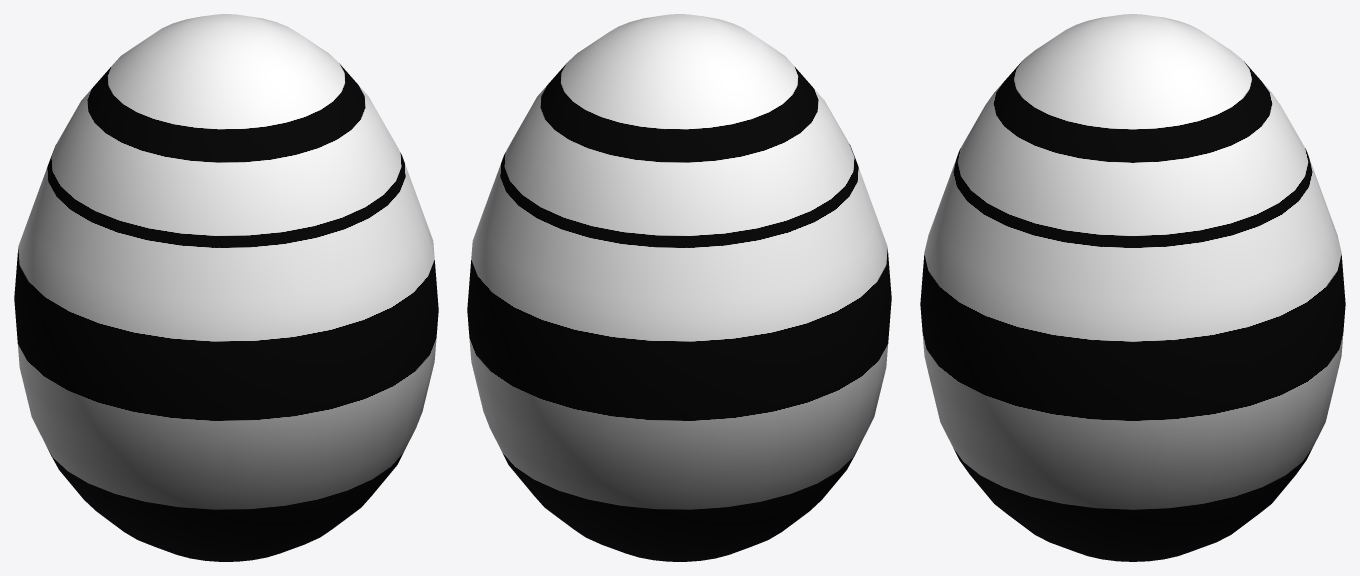
File: egg01.glb
3 views of the same model, side by side, from view 1: azimuth 30°, elevation 25°; view 2: azimuth 150°, elevation 25°; view 3: azimuth 270°, elevation 25° (orthographic).
Parts seen in each view (by area): view 1: Sphere001; view 2: Sphere001; view 3: Sphere001.
Boxes of the visible parts, <box> form: Sphere001: <box>14,14,438,561</box>; Sphere001: <box>467,14,891,561</box>; Sphere001: <box>920,14,1345,561</box>.
Bounding box in the file's own units: 0.7237 × 0.9744 × 0.7237.
Materials: 1 (1 with a texture image).
